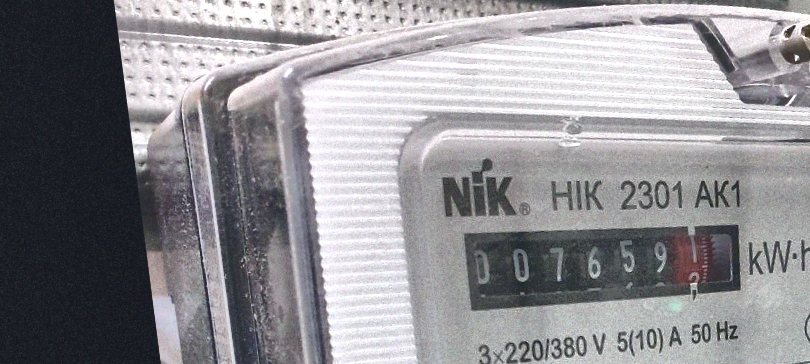0: (505, 242, 534, 286), (466, 244, 494, 288)
1: (682, 232, 703, 267)
5: (614, 235, 639, 276)
6: (580, 241, 606, 282)
7: (545, 243, 569, 285)
9: (649, 237, 670, 276)
screen: (450, 188, 756, 344)
